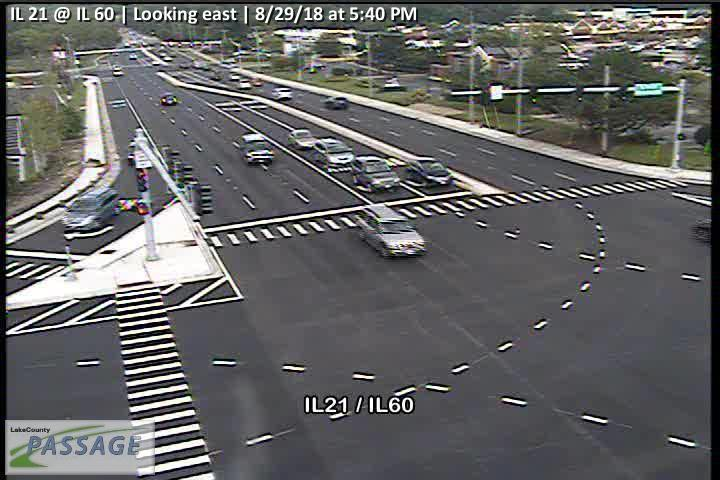SUV: (354, 204, 426, 259), (60, 186, 123, 235), (351, 155, 402, 192), (404, 157, 454, 186), (311, 137, 355, 168), (238, 133, 276, 164), (324, 96, 348, 109), (271, 87, 294, 100), (236, 78, 252, 89)
Sedan: (287, 129, 317, 149)
